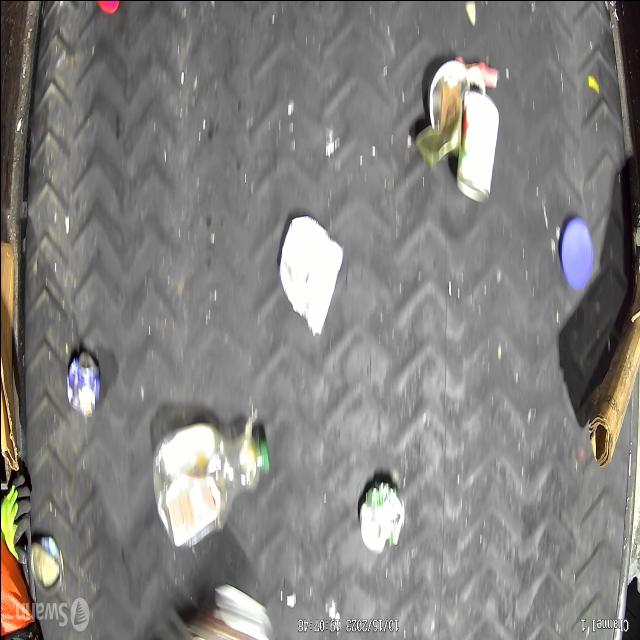can: (455, 84, 499, 204), (358, 475, 408, 557), (64, 348, 102, 418), (29, 533, 64, 594)
plastic_bottle: (150, 412, 270, 554)
